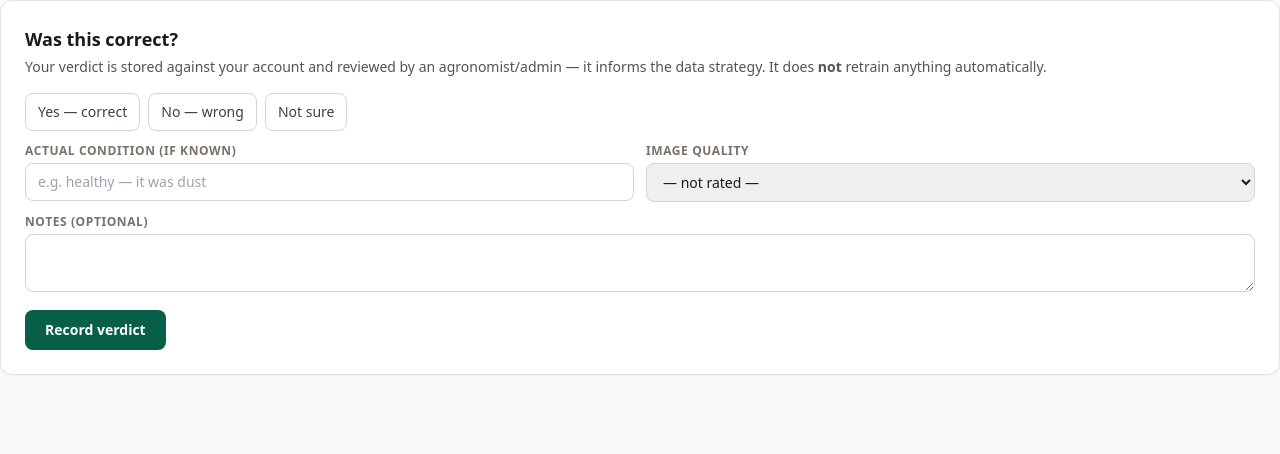
Test: FeedbackPanel (per-account verdicts) › submits the verdict verbatim and shows the backend note after recording
This screenshot has width=1280, height=454.
Click the radio button "No — wrong" at (203, 112), box [148,93,257,131]
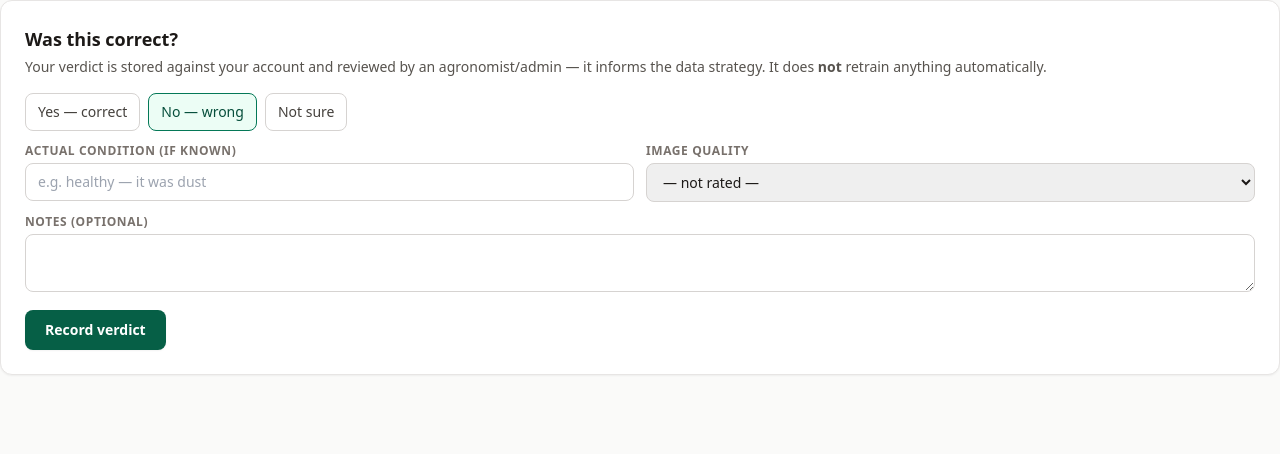
Type "healthy" into the field labelled "Actual condition (if known)" at (330, 182), box [25,163,634,201]
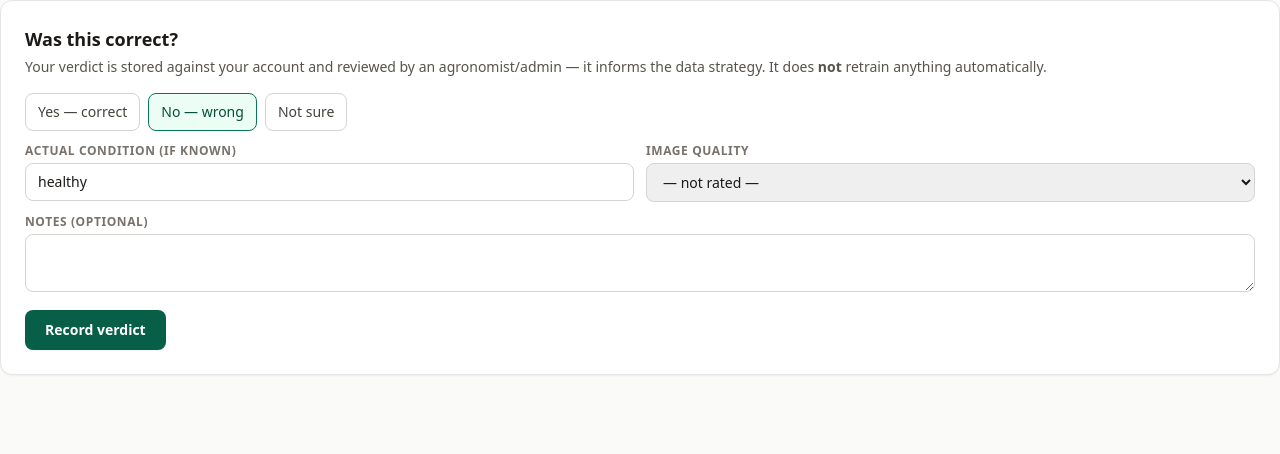
Type "looked fine to me" into the text box labelled "Notes (optional)" at (640, 263), box [25,234,1255,292]
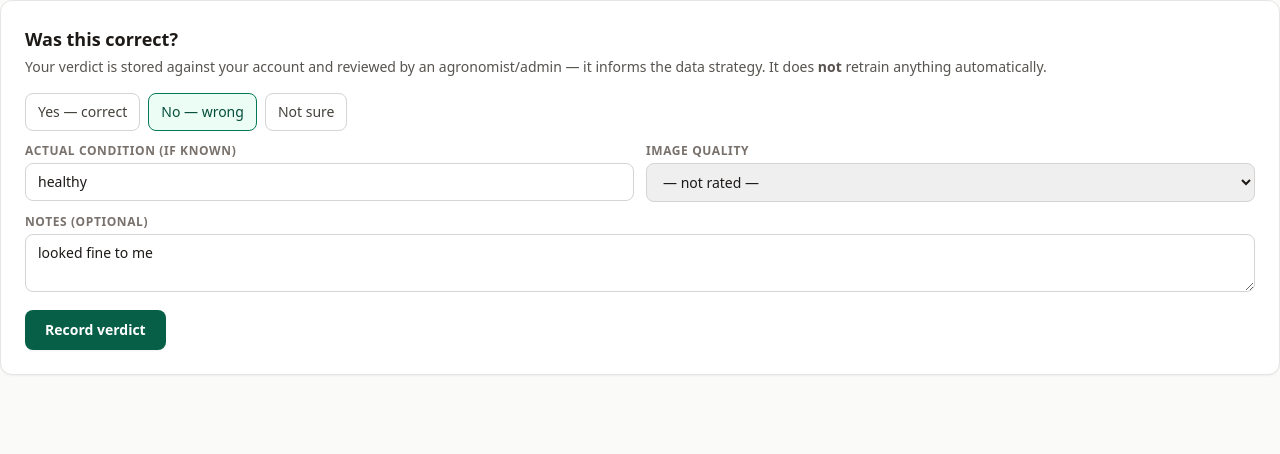
Click the button "Record verdict" at (95, 330), box [25,310,166,350]
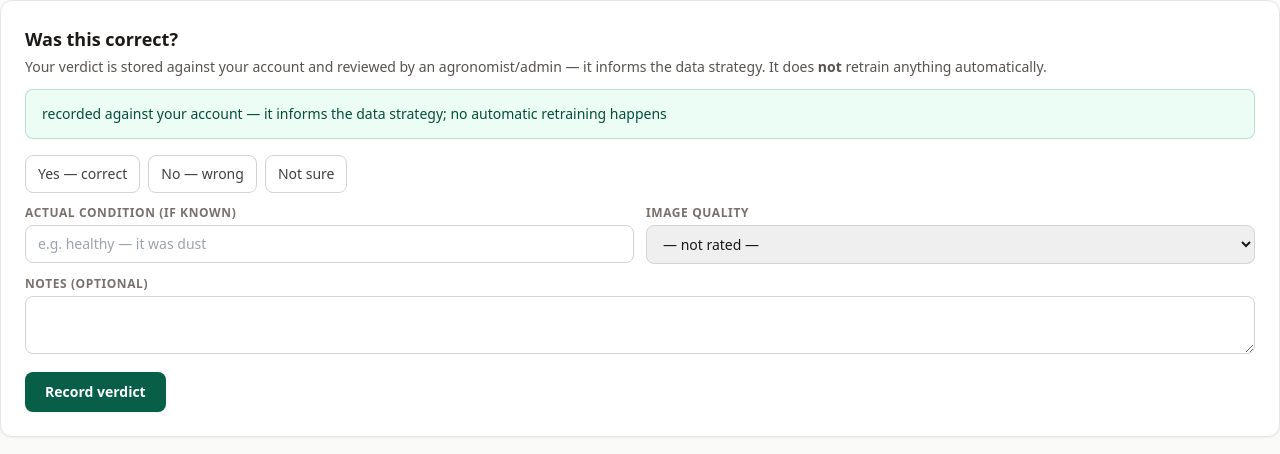
Expected: the text "recorded against your account" is shown, [42,104,667,123]
